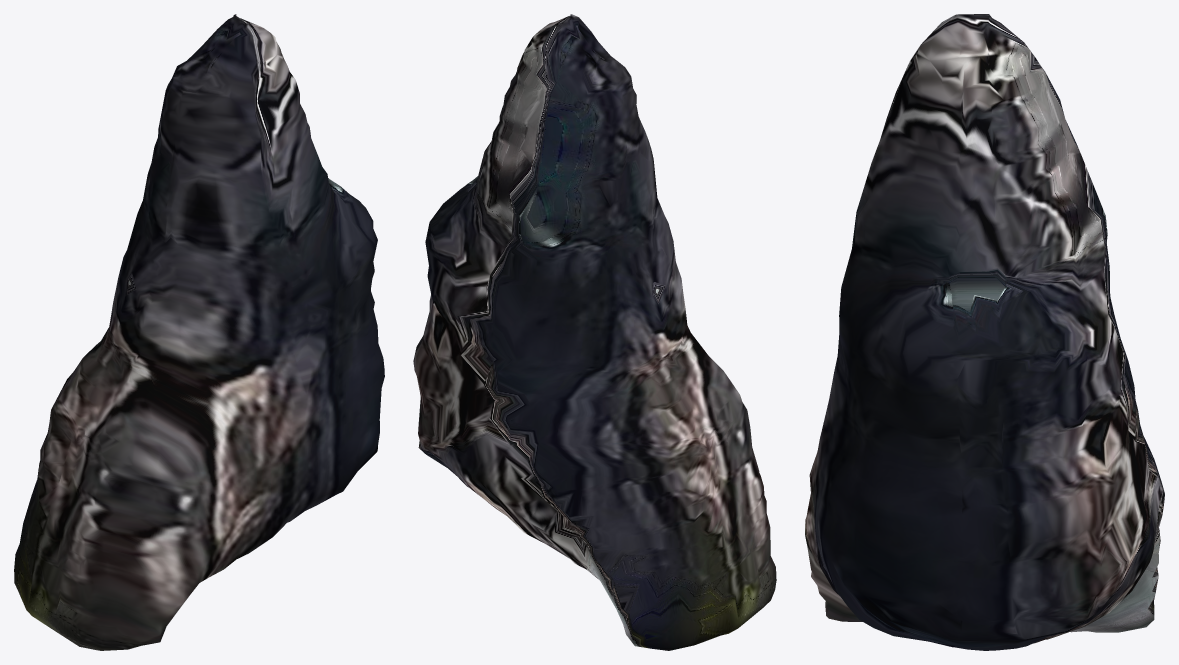
Rendered from rock_crag.glb.
3 renders of one model, left to right at view 1: azimuth 30°, elevation 25°; view 2: azimuth 150°, elevation 25°; view 3: azimuth 270°, elevation 25°, orthographic. The views are drawn at different scales.
Visible parts, largest first — view 1: rock_crag; view 2: rock_crag; view 3: rock_crag.
Boxes of the visible parts, left/top/right/bottom form: rock_crag: left=14, top=14, right=384, bottom=650; rock_crag: left=413, top=14, right=776, bottom=650; rock_crag: left=805, top=14, right=1164, bottom=650.
Bounding box in the file's own units: 0.5758 × 0.9781 × 0.4455.
1 material, 1 textured.
